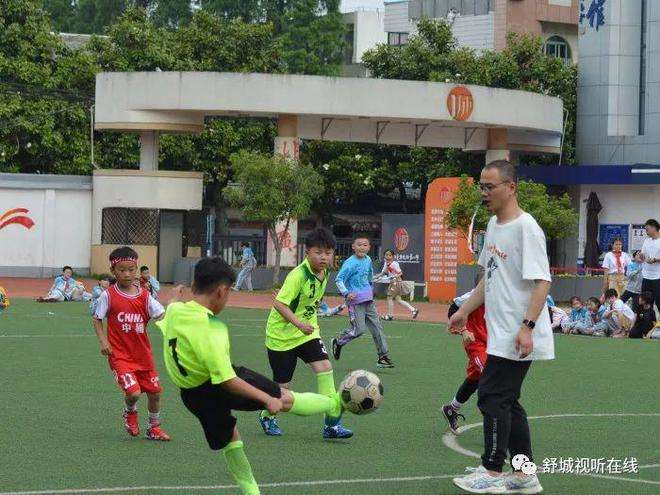football: (337, 369, 387, 416)
